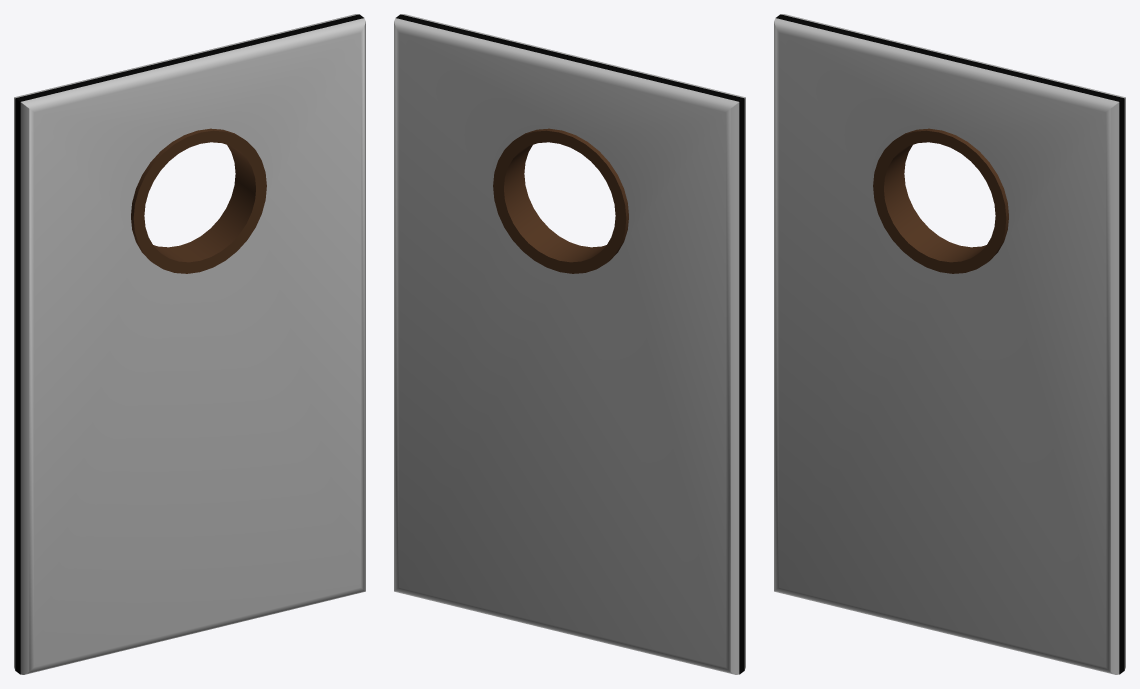
The model's file is 3D_FireDoor_v1.fbx.
The picture shows the model from 3 angles, left to right: view 1: azimuth 30°, elevation 25°; view 2: azimuth 150°, elevation 25°; view 3: azimuth 330°, elevation 25°; orthographic projection.
Visible parts, largest first — view 1: Cube; view 2: Cube; view 3: Cube.
Boxes of the visible parts, x1=… form: Cube: x1=14, y1=14, x2=365, y2=674; Cube: x1=394, y1=14, x2=745, y2=674; Cube: x1=774, y1=14, x2=1125, y2=674.
Size of the model in its own units: 132 by 210 by 13.68.
